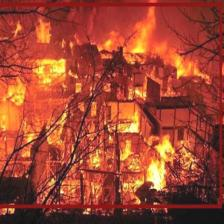fire: (0, 2, 221, 207)
